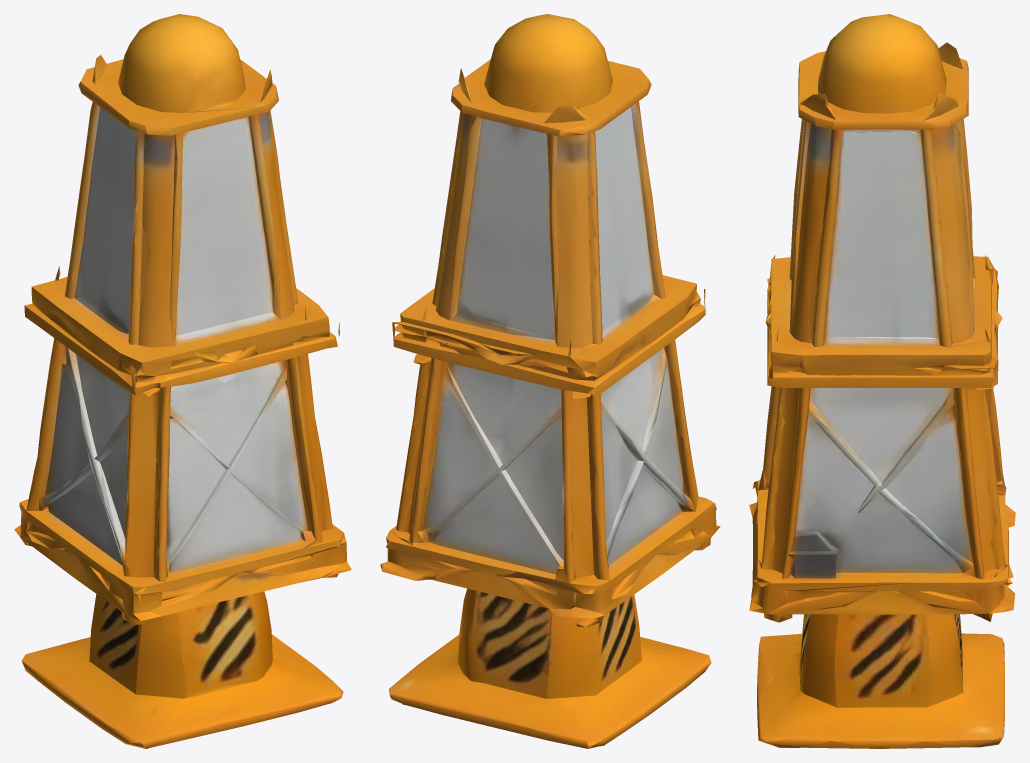
File: m2DomeBeacon.glb
3 renders of one model, left to right at view 1: azimuth 30°, elevation 25°; view 2: azimuth 150°, elevation 25°; view 3: azimuth 270°, elevation 25°, orthographic. The views are drawn at different scales.
Parts seen in each view (by area): view 1: model; view 2: model; view 3: model.
Boxes of the visible parts, x1,y1,x2,y2 form: model: [14, 14, 351, 748]; model: [380, 14, 720, 748]; model: [749, 14, 1015, 748].
Bounding box in the file's own units: 0.669 × 1.9 × 0.6778.
1 material, 1 textured.
